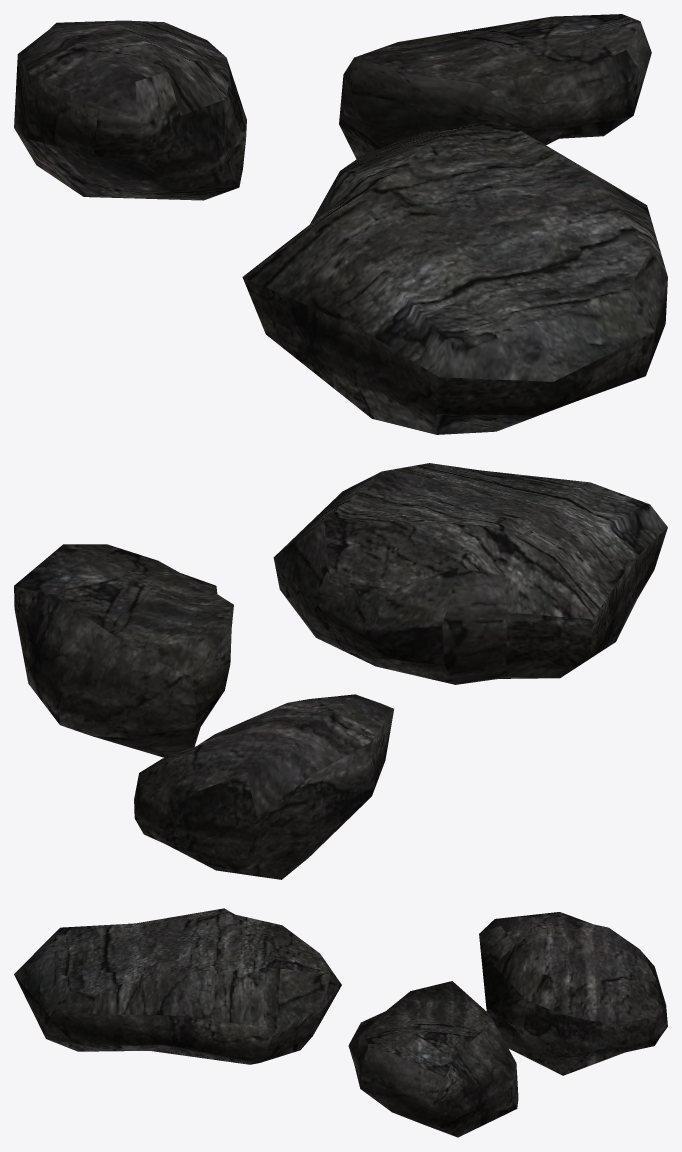
The model's file is Rocks 3.glb.
The picture shows the model from 3 angles, top to bottom: view 1: azimuth 30°, elevation 25°; view 2: azimuth 150°, elevation 25°; view 3: azimuth 270°, elevation 25°; orthographic projection. The views are drawn at different scales.
Parts seen in each view (by area): view 1: rocks_3_low; view 2: rocks_3_low; view 3: rocks_3_low.
Part boxes in pixels (box(x1,y1,x2,y2)): rocks_3_low: box(14, 14, 667, 434); rocks_3_low: box(14, 463, 667, 879); rocks_3_low: box(14, 908, 667, 1137).
Bounding box in the file's own units: 0.2014 × 0.0739 × 0.3157.
1 material, 1 textured.
